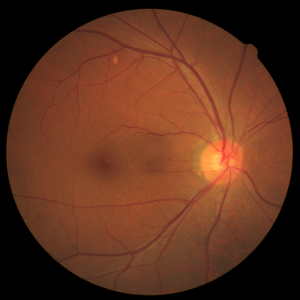retina_disease: (83, 99, 264, 215)
